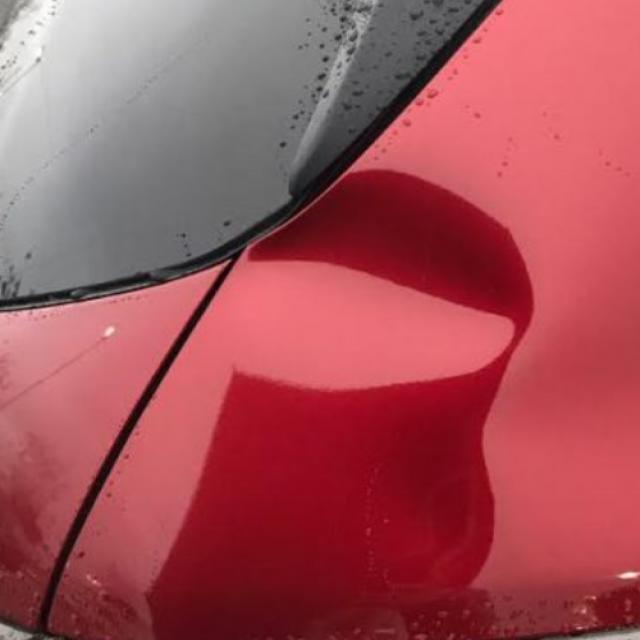dents: (221, 148, 553, 418)
